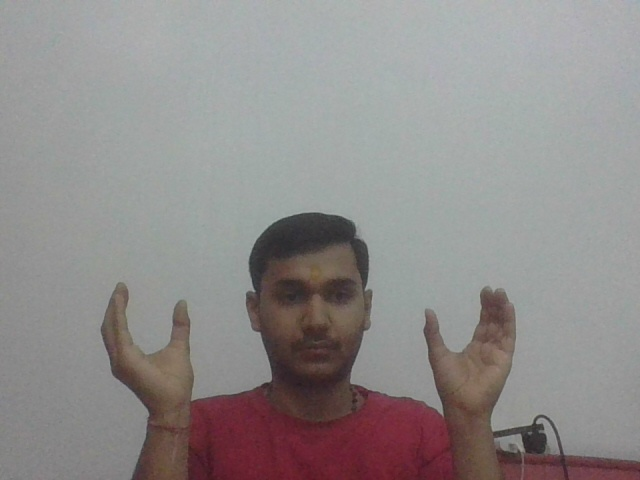U: (92, 280, 204, 403), (420, 278, 523, 411)
